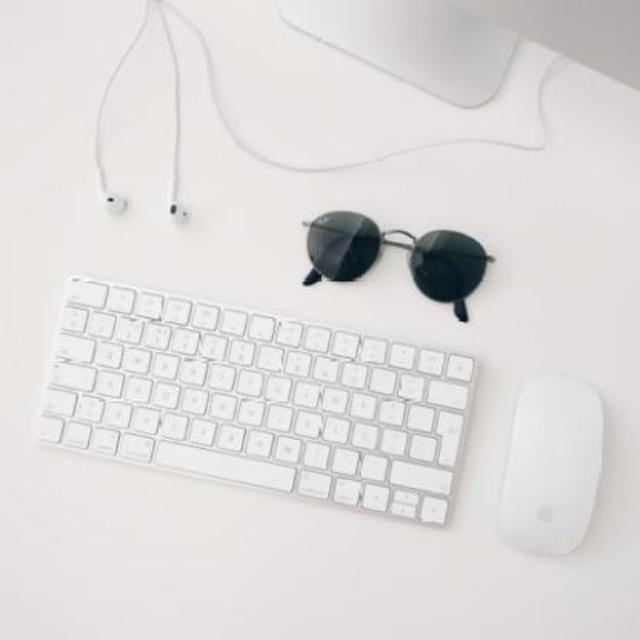sunglasses: (300, 208, 496, 322)
